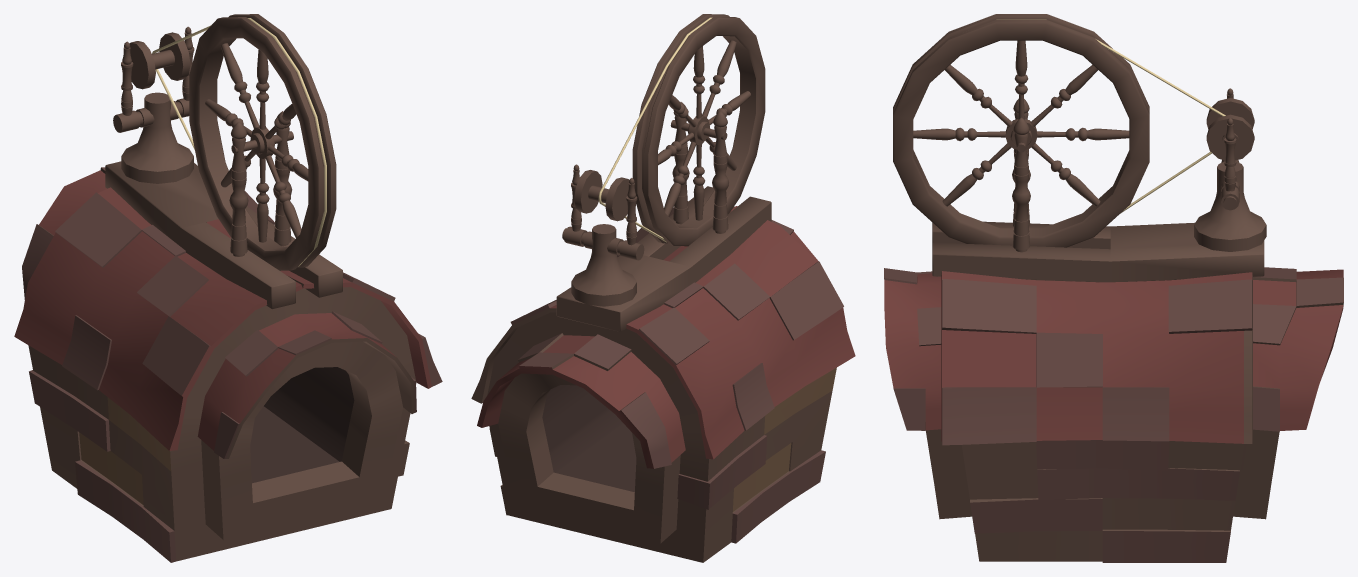
File: WebMaschine.fbx
3 views of the same model, side by side, from view 1: azimuth 30°, elevation 25°; view 2: azimuth 150°, elevation 25°; view 3: azimuth 270°, elevation 25° (orthographic). The views are drawn at different scales.
Visible parts, largest first — view 1: Cube.001, SpinnRad; view 2: Cube.001, SpinnRad; view 3: Cube.001, SpinnRad.
Boxes of the visible parts, <box> form: Cube.001: <box>14,18,442,562</box>; SpinnRad: <box>189,14,336,270</box>; Cube.001: <box>471,17,855,562</box>; SpinnRad: <box>632,14,765,246</box>; Cube.001: <box>884,19,1343,562</box>; SpinnRad: <box>893,14,1149,247</box>.
Bounding box in the file's own units: 155 × 268 × 227.
